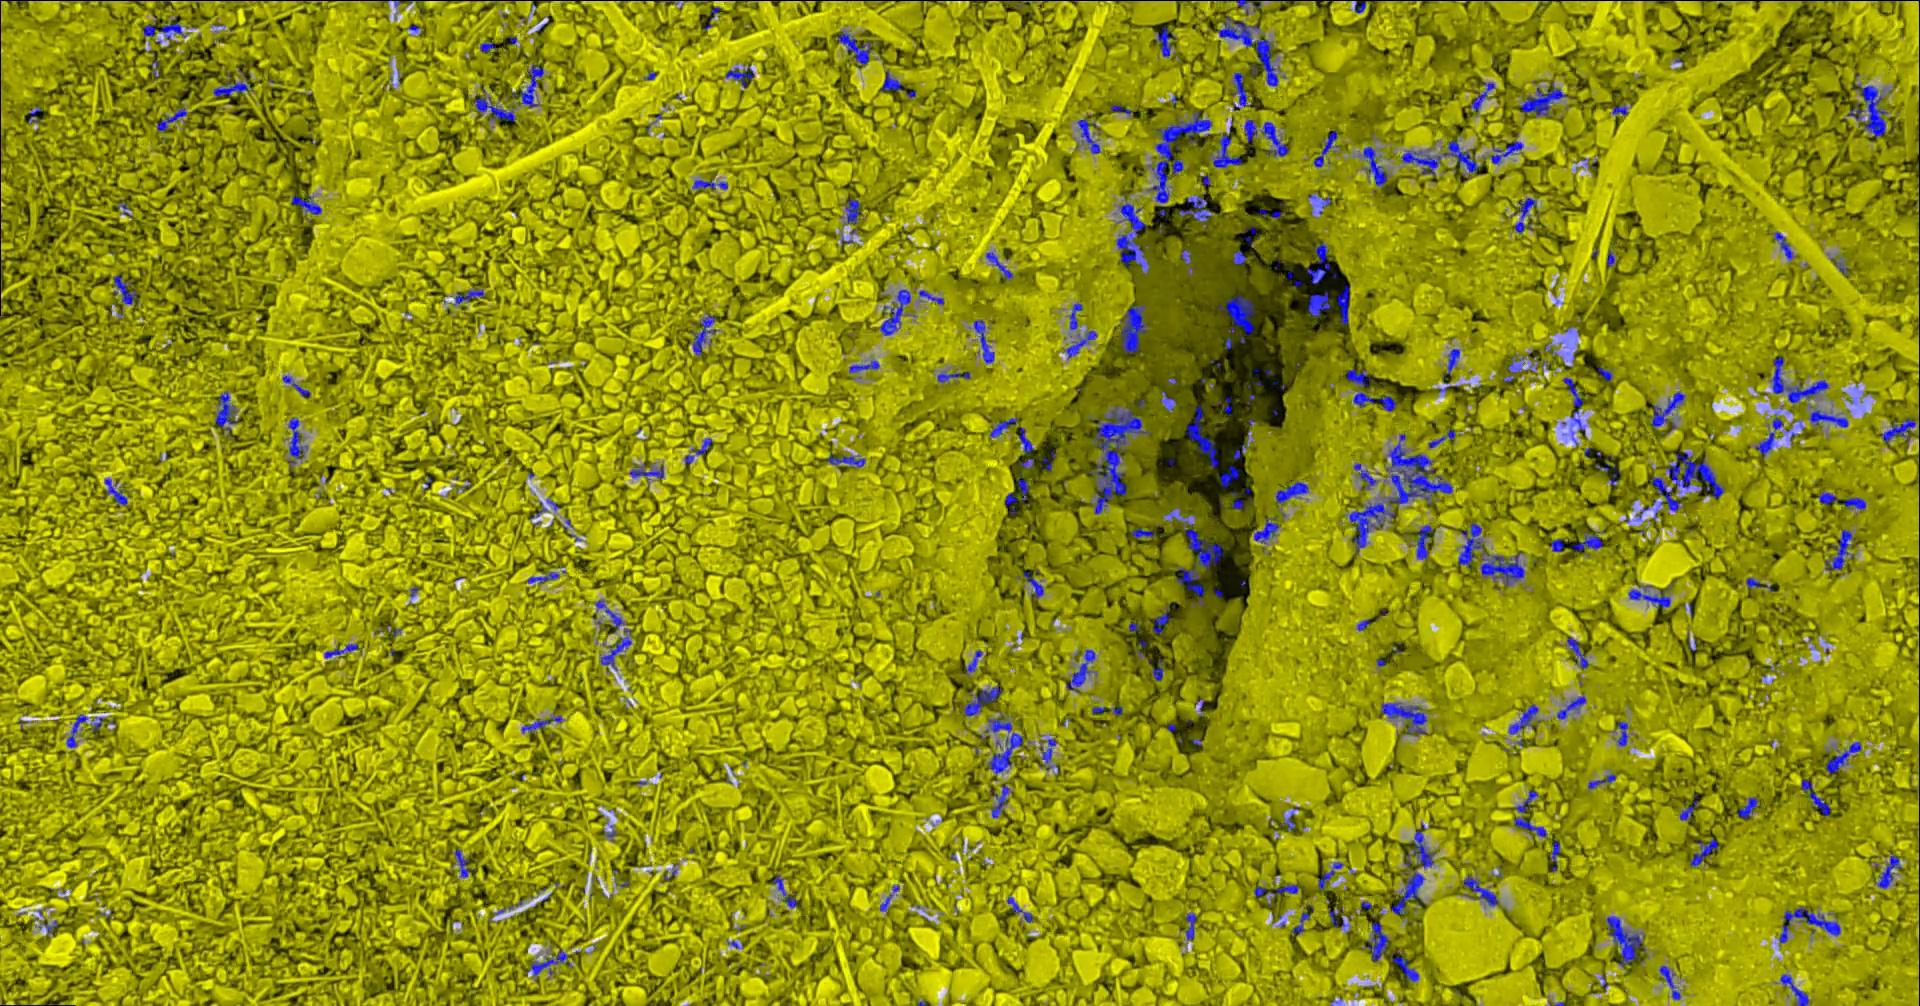ant: (1402, 138, 1483, 175), (1773, 356, 1830, 406), (596, 600, 632, 669), (1350, 502, 1397, 553), (1117, 196, 1150, 267), (1780, 906, 1843, 942), (987, 714, 1023, 775), (1608, 915, 1647, 968), (1219, 295, 1257, 349), (1187, 406, 1220, 467), (1853, 84, 1888, 137), (1521, 81, 1568, 116), (1392, 869, 1426, 915), (1117, 304, 1149, 352), (1515, 790, 1548, 836), (1404, 823, 1437, 868), (1383, 702, 1429, 734), (1214, 119, 1243, 166), (513, 64, 545, 107), (476, 88, 517, 121), (1653, 391, 1686, 432), (883, 290, 912, 335), (1067, 649, 1096, 694), (965, 685, 1003, 716), (1827, 741, 1863, 774), (690, 312, 717, 354), (1564, 377, 1586, 431), (143, 15, 190, 39), (1802, 779, 1832, 815), (1827, 528, 1854, 570), (1361, 146, 1389, 185), (1757, 417, 1785, 456), (839, 30, 872, 64), (528, 949, 569, 976), (1465, 875, 1500, 906), (215, 71, 255, 97), (1308, 243, 1332, 285), (290, 417, 309, 469), (1006, 474, 1030, 514), (217, 391, 239, 436), (1652, 476, 1680, 511), (1263, 121, 1290, 156), (1065, 330, 1098, 358), (1630, 586, 1672, 607), (975, 319, 996, 363), (1882, 418, 1917, 443), (1368, 922, 1390, 962), (1316, 130, 1340, 166), (1879, 851, 1903, 888), (1079, 114, 1102, 152), (1514, 197, 1538, 232), (1510, 704, 1539, 733), (1782, 974, 1810, 1005), (1354, 392, 1398, 412), (1393, 949, 1420, 981), (1178, 196, 1211, 221), (775, 874, 799, 907), (728, 64, 756, 91), (1691, 838, 1719, 866), (1470, 81, 1496, 112), (987, 251, 1015, 278), (157, 107, 188, 131), (1492, 140, 1524, 163), (1277, 481, 1310, 503), (1661, 965, 1683, 998), (686, 438, 714, 464), (1810, 409, 1849, 427), (1417, 525, 1437, 559), (69, 713, 89, 747), (522, 715, 564, 732), (1568, 636, 1590, 668), (1234, 72, 1253, 108), (1255, 516, 1280, 542), (1008, 895, 1034, 922), (114, 276, 138, 304), (990, 784, 1011, 817), (1558, 695, 1587, 718), (446, 288, 485, 305), (1157, 25, 1177, 57), (1319, 862, 1343, 889), (284, 375, 312, 398), (105, 478, 128, 506), (1293, 906, 1316, 934), (1023, 570, 1045, 600), (1309, 290, 1332, 316), (1355, 464, 1378, 490), (1572, 531, 1604, 550), (456, 848, 477, 876), (990, 417, 1018, 437), (631, 464, 665, 480), (1040, 738, 1058, 770), (293, 194, 323, 213), (1503, 357, 1525, 382), (1775, 231, 1794, 259), (1429, 428, 1457, 447), (1597, 464, 1622, 485), (1681, 794, 1700, 821), (1338, 285, 1351, 324), (1153, 605, 1171, 633), (883, 70, 905, 91), (1738, 796, 1760, 819), (829, 453, 867, 466), (1445, 348, 1462, 377), (326, 643, 361, 657), (1349, 368, 1373, 387), (1220, 464, 1239, 488), (1283, 807, 1300, 831), (846, 198, 862, 224), (850, 359, 881, 372), (1020, 426, 1034, 453), (1747, 577, 1775, 591), (1589, 774, 1617, 788), (938, 371, 971, 382), (528, 572, 561, 583), (966, 649, 983, 672), (693, 179, 729, 189), (1161, 390, 1178, 410), (1330, 907, 1347, 927), (919, 290, 945, 304), (1070, 304, 1084, 329), (1272, 883, 1300, 895), (1550, 840, 1561, 871), (1244, 119, 1258, 142), (1043, 447, 1057, 470), (1848, 102, 1865, 119), (1186, 913, 1197, 940), (1237, 0, 1262, 11), (1844, 497, 1867, 509), (1244, 226, 1258, 246), (1355, 0, 1379, 11), (1618, 721, 1629, 746), (29, 105, 44, 123), (1093, 705, 1124, 714), (1818, 492, 1839, 504), (1597, 366, 1614, 381), (1112, 104, 1137, 114), (1258, 208, 1283, 218), (1234, 443, 1250, 459), (1133, 528, 1156, 539), (1153, 659, 1164, 680), (1613, 102, 1629, 116), (481, 41, 500, 52), (1234, 249, 1248, 264), (1233, 492, 1244, 509), (1182, 249, 1192, 268), (1550, 539, 1566, 551), (1225, 395, 1234, 413), (1255, 885, 1269, 895)
